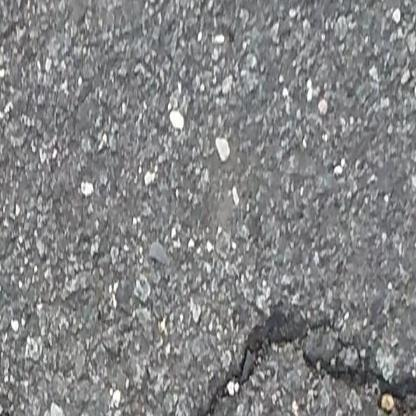Cracks: (147, 302, 416, 416), (0, 396, 18, 416)
